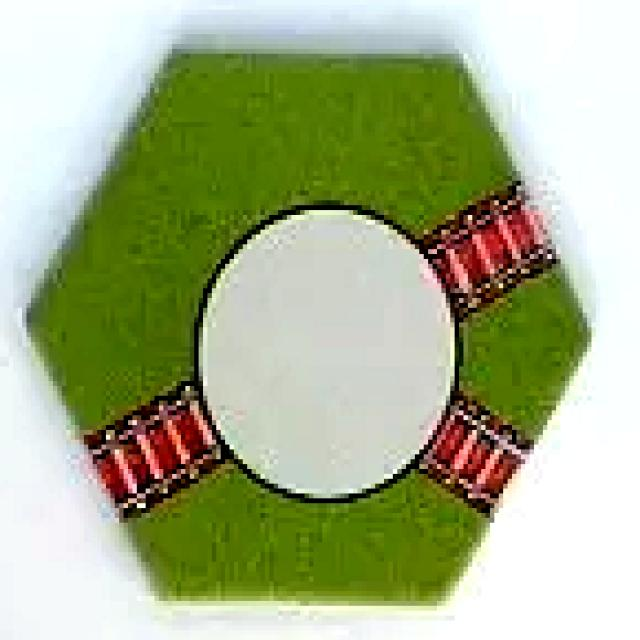10_3: (22, 40, 598, 607)
